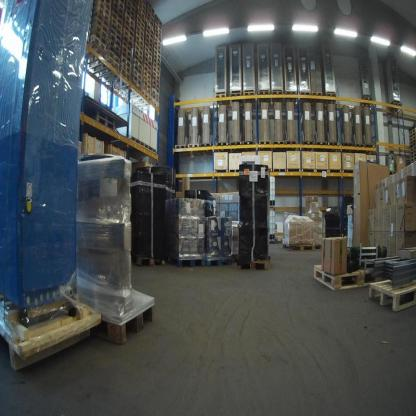pallet: (2, 301, 100, 383), (96, 275, 163, 353), (314, 255, 372, 296), (366, 275, 413, 318), (127, 249, 171, 272), (234, 256, 274, 279), (122, 132, 155, 159), (86, 55, 120, 81), (83, 35, 107, 67), (170, 250, 206, 271), (279, 235, 315, 253), (106, 66, 130, 92), (83, 117, 117, 135), (204, 253, 232, 272), (125, 76, 141, 101), (90, 113, 118, 124), (299, 138, 315, 157), (285, 87, 299, 107), (259, 87, 272, 108), (136, 89, 151, 107), (212, 89, 227, 106), (271, 88, 283, 108), (326, 90, 339, 108), (241, 136, 257, 149), (313, 136, 329, 149), (299, 88, 312, 104), (388, 101, 402, 115), (174, 140, 187, 155), (243, 89, 255, 105), (229, 89, 241, 105), (150, 98, 162, 114), (200, 139, 212, 153), (257, 139, 273, 149), (312, 88, 324, 101), (188, 142, 200, 154), (214, 140, 230, 149), (341, 138, 354, 148), (274, 167, 289, 175), (354, 140, 366, 150), (286, 138, 296, 149), (229, 139, 241, 148), (272, 137, 284, 146), (329, 140, 339, 150), (362, 96, 370, 108), (387, 167, 399, 174), (228, 168, 240, 174), (366, 142, 375, 149)
